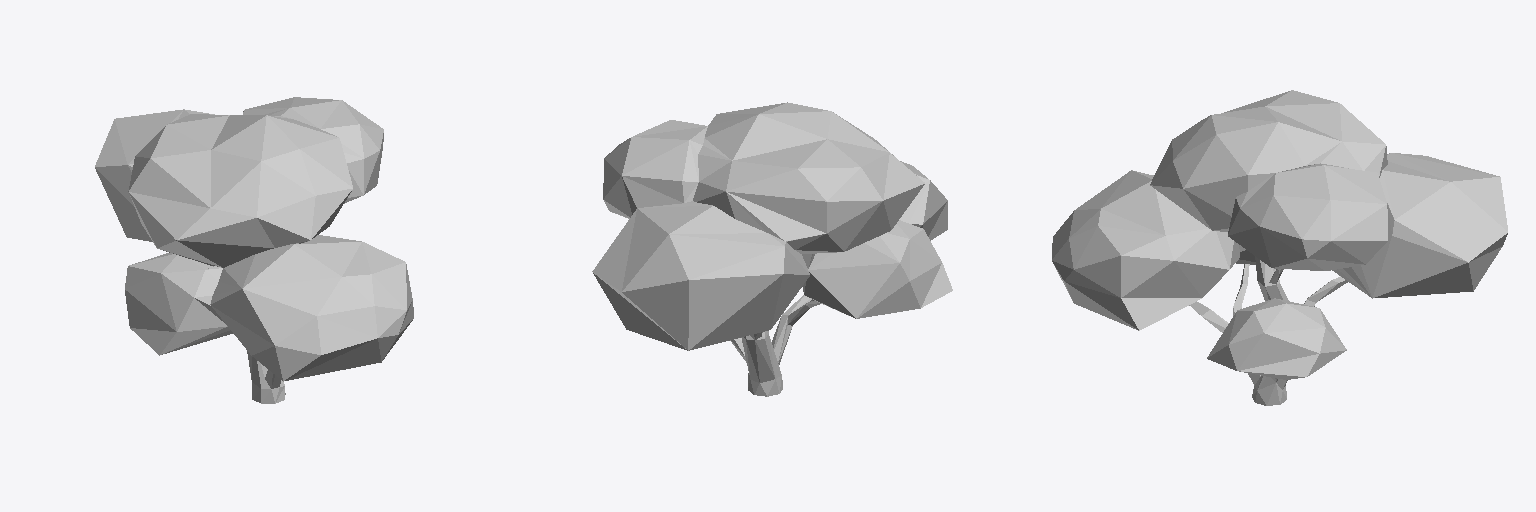
File: bush04.obj
3 views of the same model, side by side, from view 1: azimuth 30°, elevation 25°; view 2: azimuth 150°, elevation 25°; view 3: azimuth 270°, elevation 25° (orthographic).
Parts seen in each view (by area): view 1: Cylinder.001_Cylinder.002; view 2: Cylinder.001_Cylinder.002; view 3: Cylinder.001_Cylinder.002.
Part boxes in pixels (left/top/right/bottom): Cylinder.001_Cylinder.002: left=95, top=97, right=413, bottom=403; Cylinder.001_Cylinder.002: left=592, top=102, right=952, bottom=396; Cylinder.001_Cylinder.002: left=1052, top=90, right=1507, bottom=405.
Bounding box in the file's own units: 0.9197 × 0.8663 × 1.29.